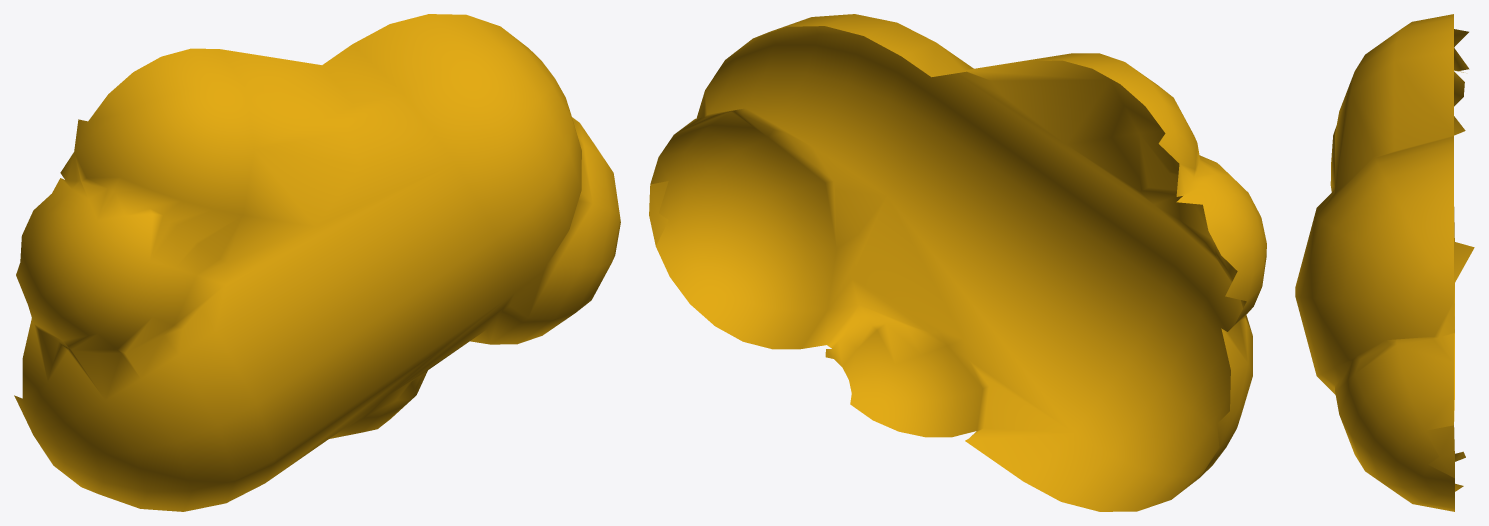
Rendered from nube electrica.fbx.
3 views of the same model, side by side, from view 1: azimuth 30°, elevation 25°; view 2: azimuth 150°, elevation 25°; view 3: azimuth 270°, elevation 25° (orthographic). The views are drawn at different scales.
Parts seen in each view (by area): view 1: Capsule009; view 2: Capsule009; view 3: Capsule009.
Boxes of the visible parts, x1,y1,x2,y2 form: Capsule009: (14, 14, 620, 511); Capsule009: (649, 14, 1266, 511); Capsule009: (1295, 14, 1474, 511).
Size of the model in its own units: 3.16 by 2.26 by 0.8995.
